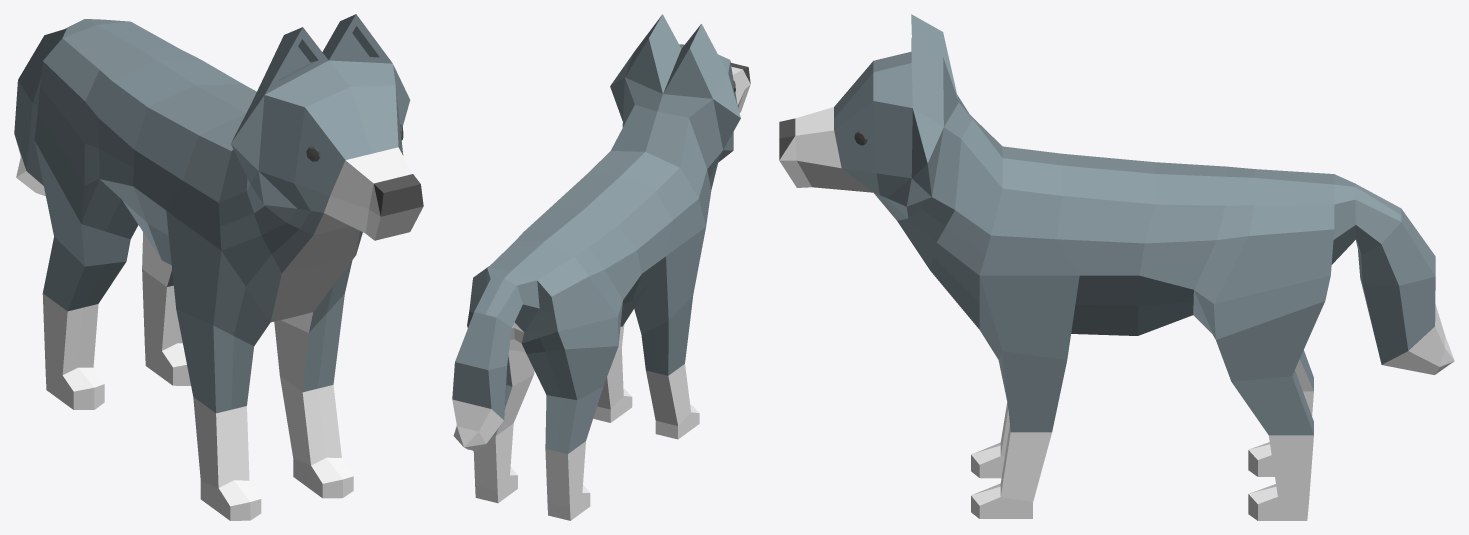
The model's file is Wolf_01.gltf.
The picture shows the model from 3 angles, left to right: view 1: azimuth 30°, elevation 25°; view 2: azimuth 150°, elevation 25°; view 3: azimuth 270°, elevation 25°; orthographic projection. The views are drawn at different scales.
Visible parts, largest first — view 1: node-0; view 2: node-0; view 3: node-0.
Part boxes in pixels (<box>): node-0: <box>14,14,423,520</box>; node-0: <box>452,14,750,520</box>; node-0: <box>779,14,1454,520</box>.
Size of the model in its own units: 3.8 by 10.37 by 13.61.
